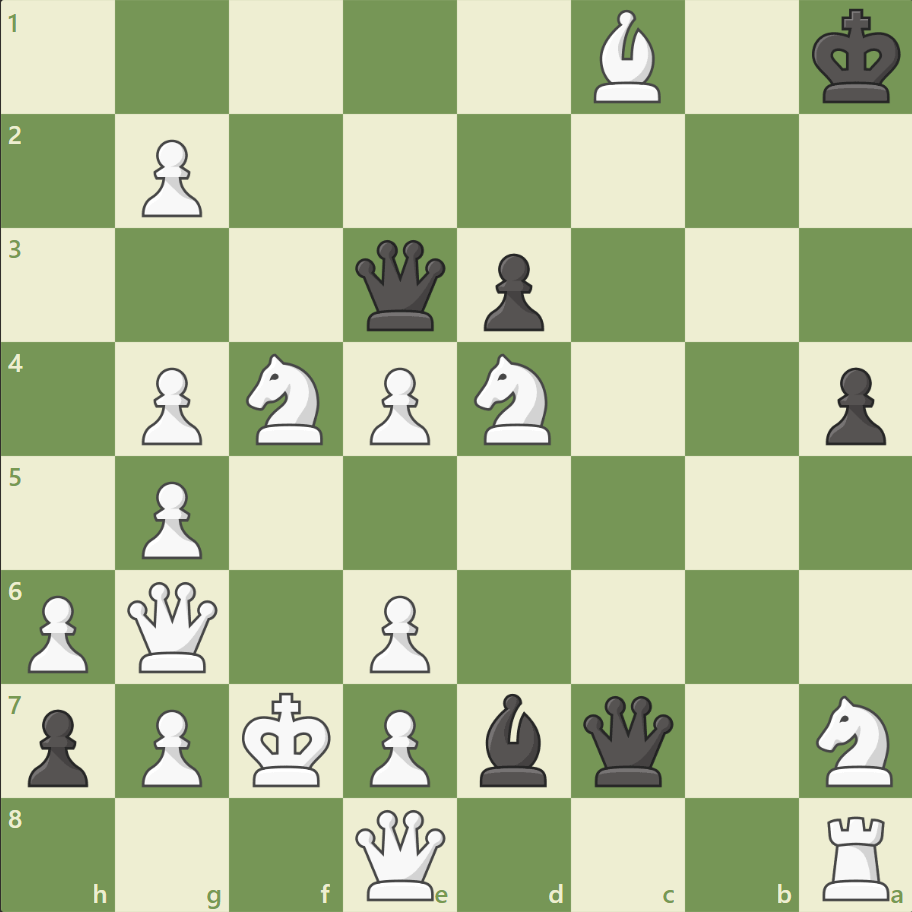B: (585, 6, 669, 109)
K: (238, 685, 338, 793)
N: (806, 688, 903, 791), (465, 348, 562, 450), (238, 348, 335, 450)
P: (133, 700, 208, 791), (20, 586, 95, 677), (133, 473, 208, 564), (133, 359, 208, 450), (133, 132, 208, 223), (361, 700, 435, 791), (361, 586, 435, 677), (361, 359, 435, 450)
Q: (124, 576, 223, 676), (351, 804, 450, 903)
R: (814, 806, 897, 904)
b: (471, 687, 555, 790)
k: (806, 4, 906, 112)
p: (20, 700, 95, 791), (474, 246, 549, 337), (815, 359, 889, 450)
q: (578, 690, 677, 789), (351, 236, 450, 335)
